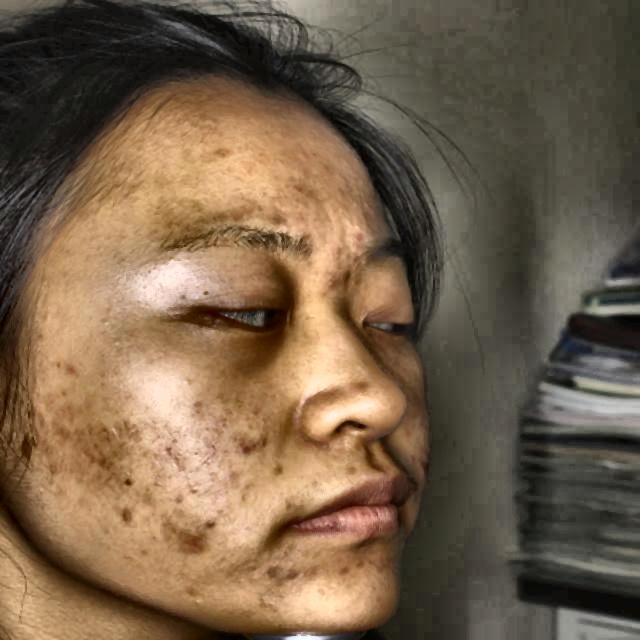pustule: (16, 429, 54, 468), (180, 525, 215, 563), (339, 221, 372, 261), (326, 174, 359, 210), (232, 431, 262, 458), (117, 504, 145, 530), (338, 557, 362, 584), (278, 563, 303, 588), (317, 273, 338, 299), (59, 353, 79, 378)
